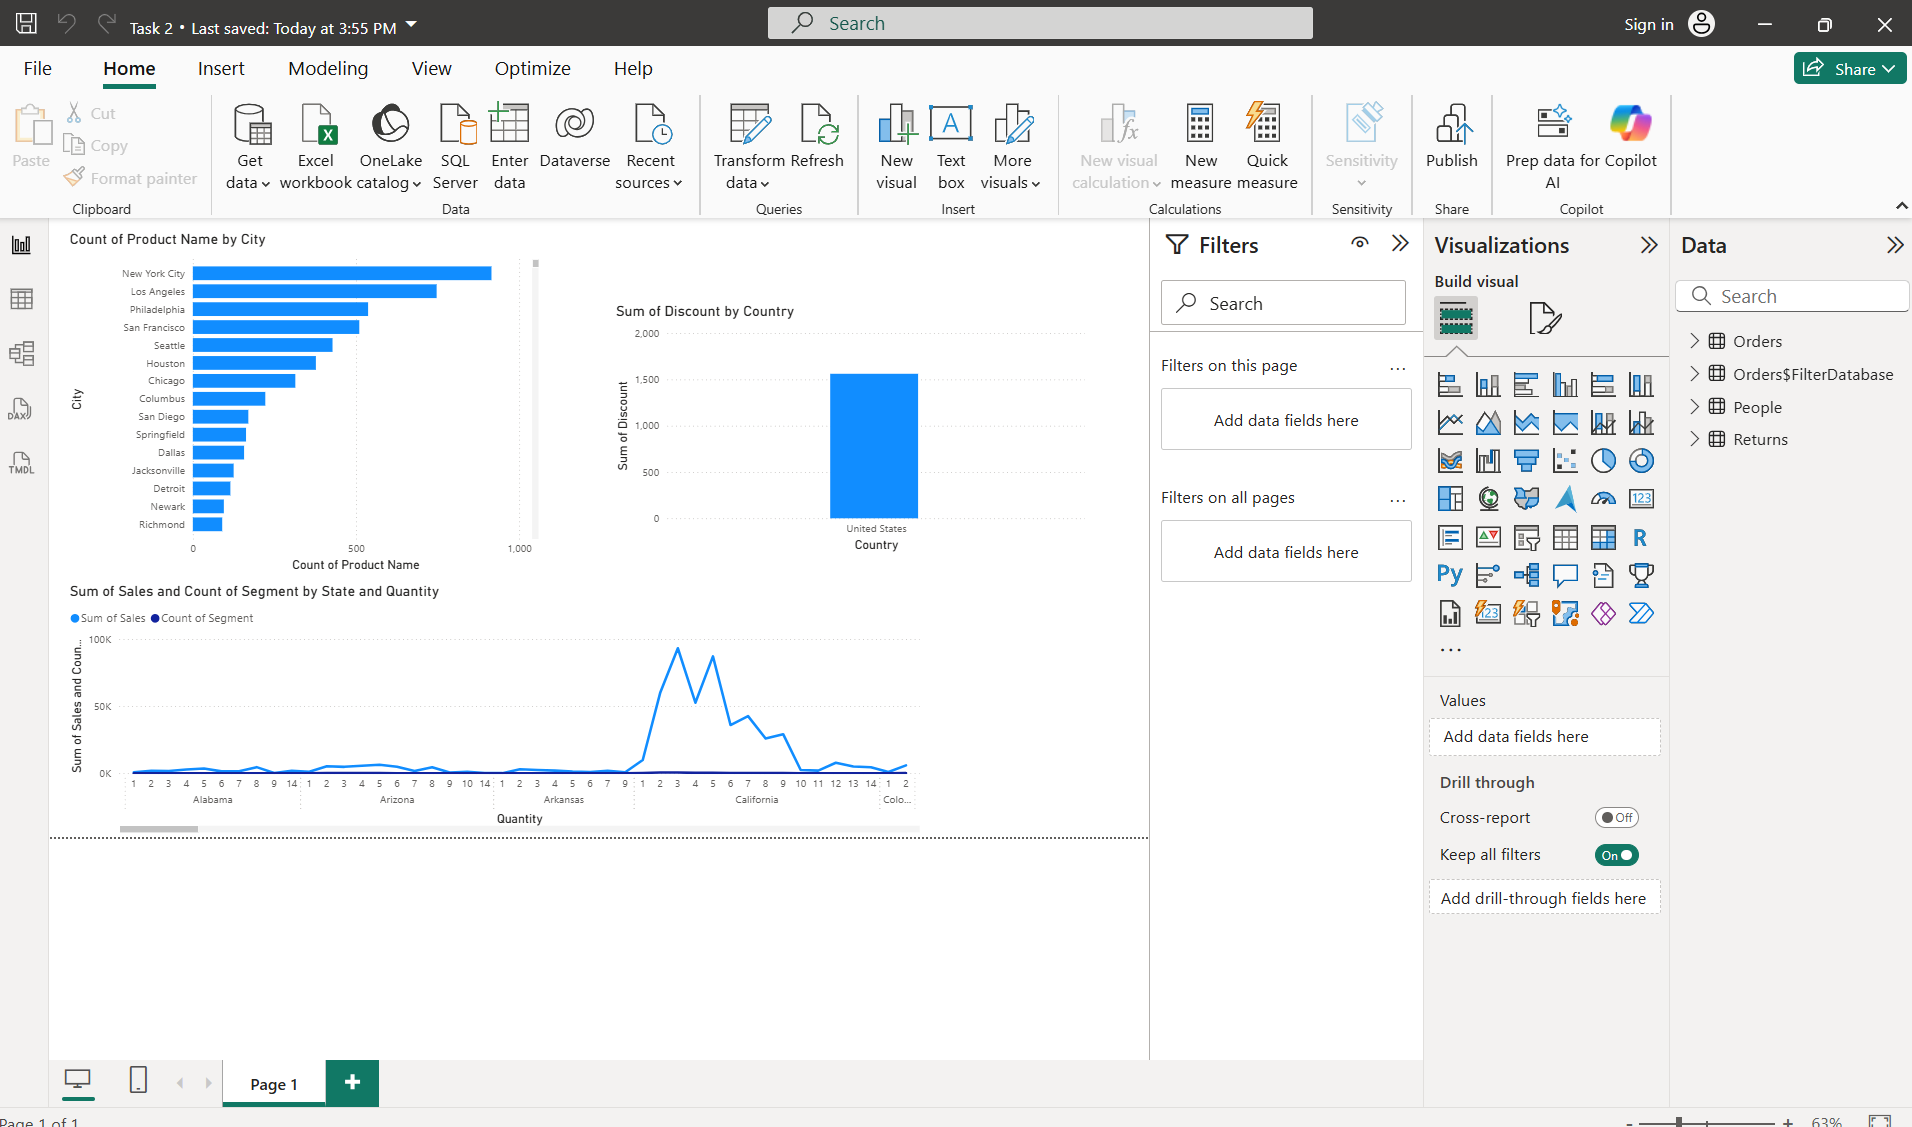

The dashboard page shown, as its layout file describes it:
{"tool":"powerbi","page":{"name":"Page 1","canvas":[1280,720],"ordinal":0},"visuals":[{"type":"barChart","fields":{"Category":["Orders.City"],"Y":["CountNonNull(Orders.Product Name)"]},"box":[19.2,13.7,555.7,402.1],"z":0},{"type":"columnChart","fields":{"Category":["Orders.Country"],"Y":["Sum(Orders.Discount)"]},"box":[654.5,98.8,555.7,295],"z":1000},{"type":"lineChart","fields":{"Category":["Orders.State","Orders.Quantity"],"Y":["Sum(Orders.Sales)","CountNonNull(Orders.Segment)"]},"box":[19.2,425.4,999,295],"z":2000}]}

Visuals, with their boxes on the page's 1280x720 design canvas (x1, y1, x2, y2). These are canvas units, not pixel positions in the 1912x1127 screenshot, which may show the page scaled, cropped or inside an application window:
barChart - Orders.City x CountNonNull(Orders.Product Name): <box>19,14,575,416</box>
columnChart - Orders.Country x Sum(Orders.Discount): <box>654,99,1210,394</box>
lineChart - Orders.State x Orders.Quantity: <box>19,425,1018,720</box>
